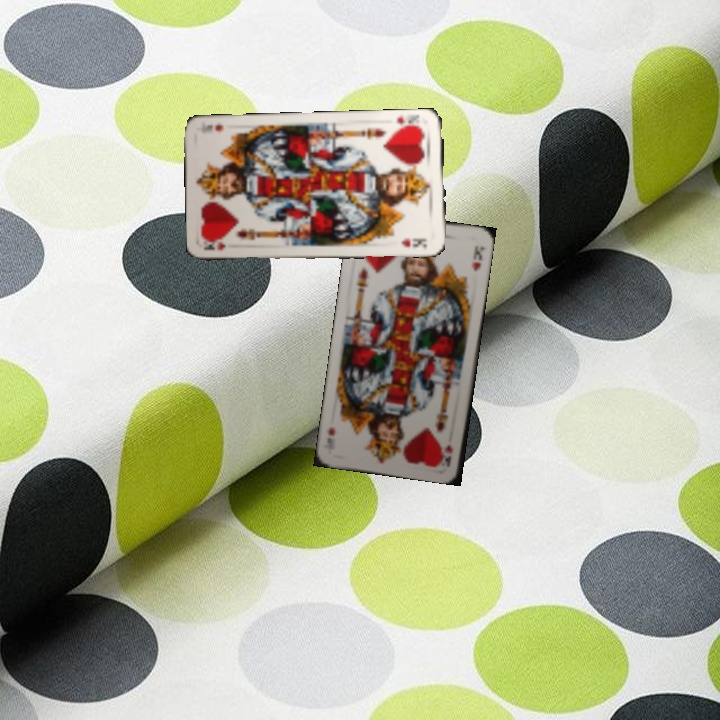HK: (393, 113, 424, 132), (201, 238, 228, 253), (441, 441, 455, 468)
